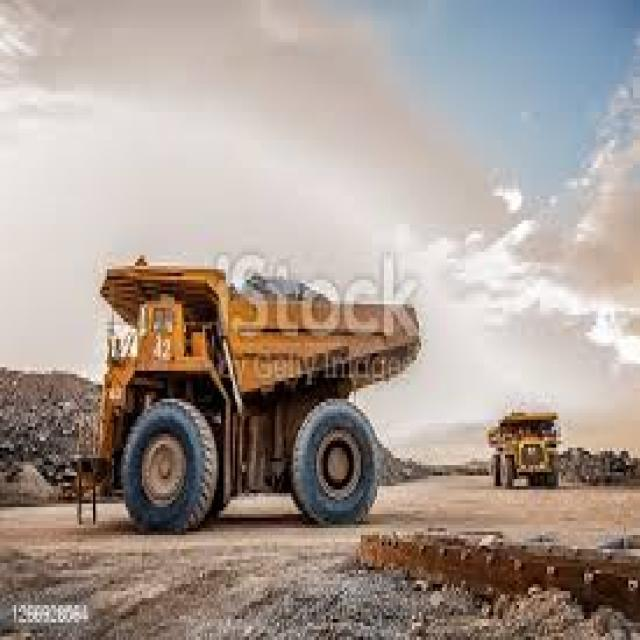dump_truck: (58, 228, 421, 566), (477, 381, 570, 518)
